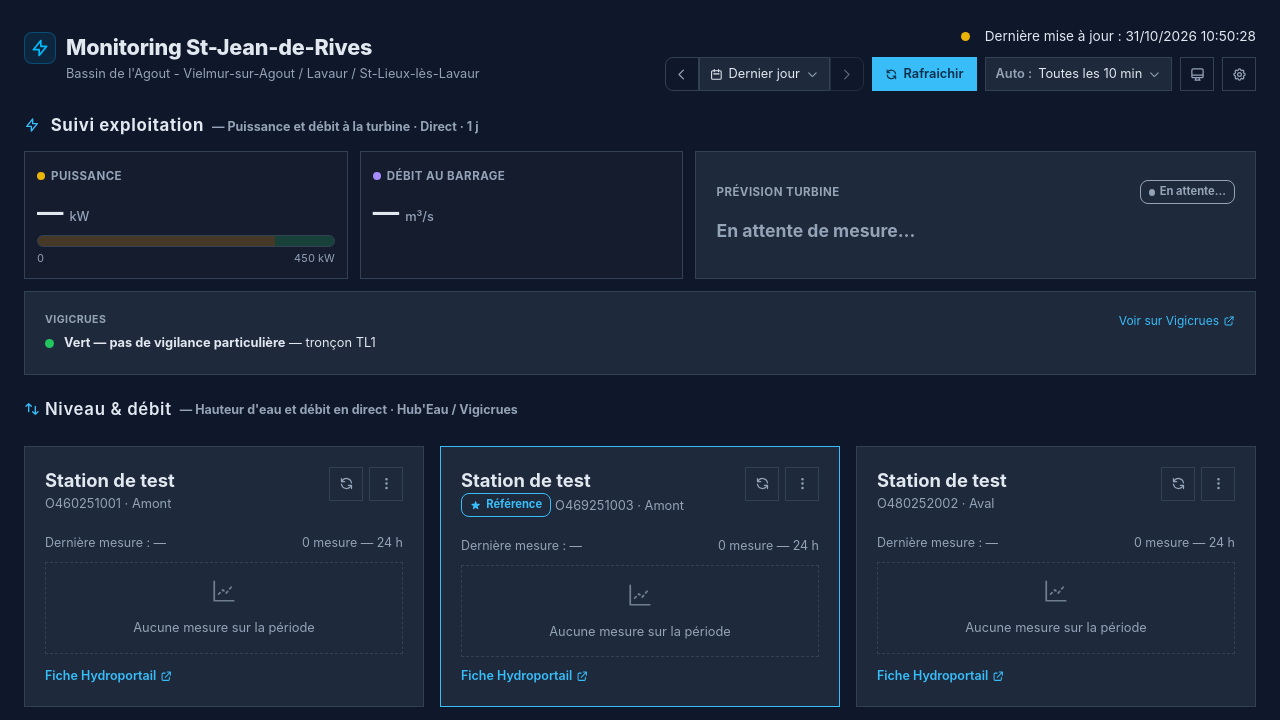
Test case: App › ouvre la modale de configuration depuis la barre d’outils
Click the button named "Configuration" at point(1239, 74), box left=1222, top=57, right=1256, bottom=91
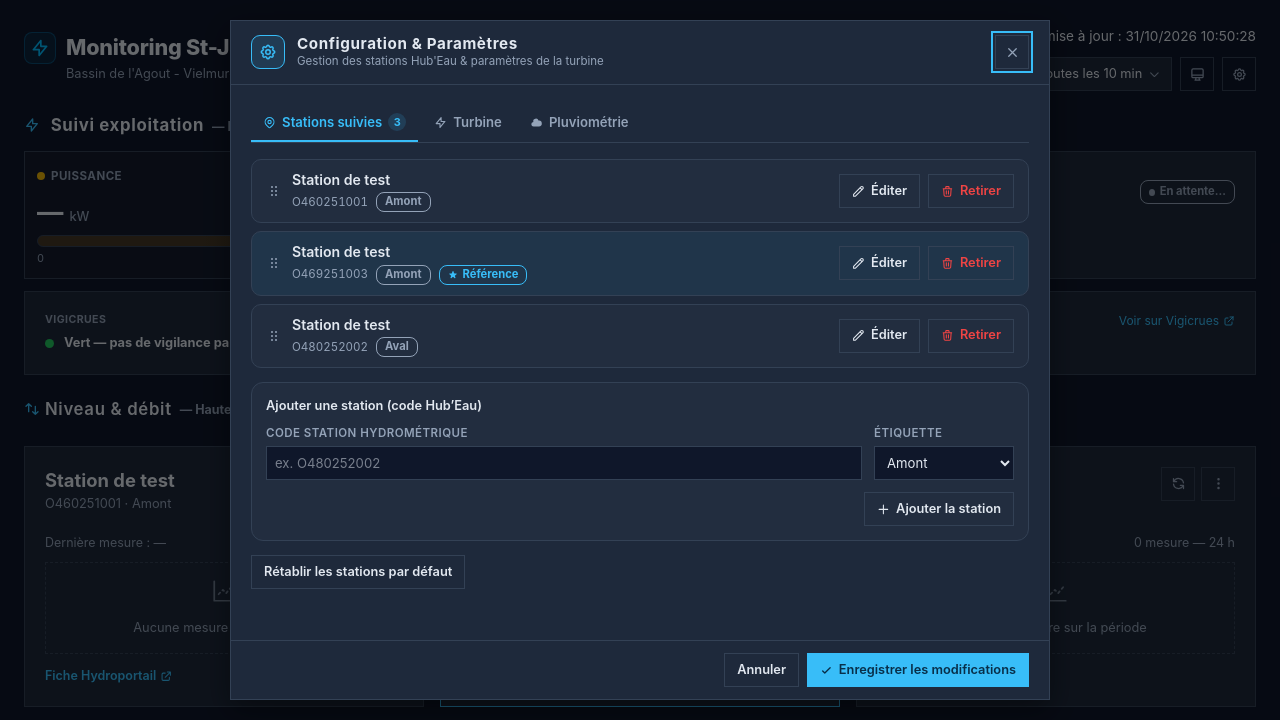
Now the dialog is shown
